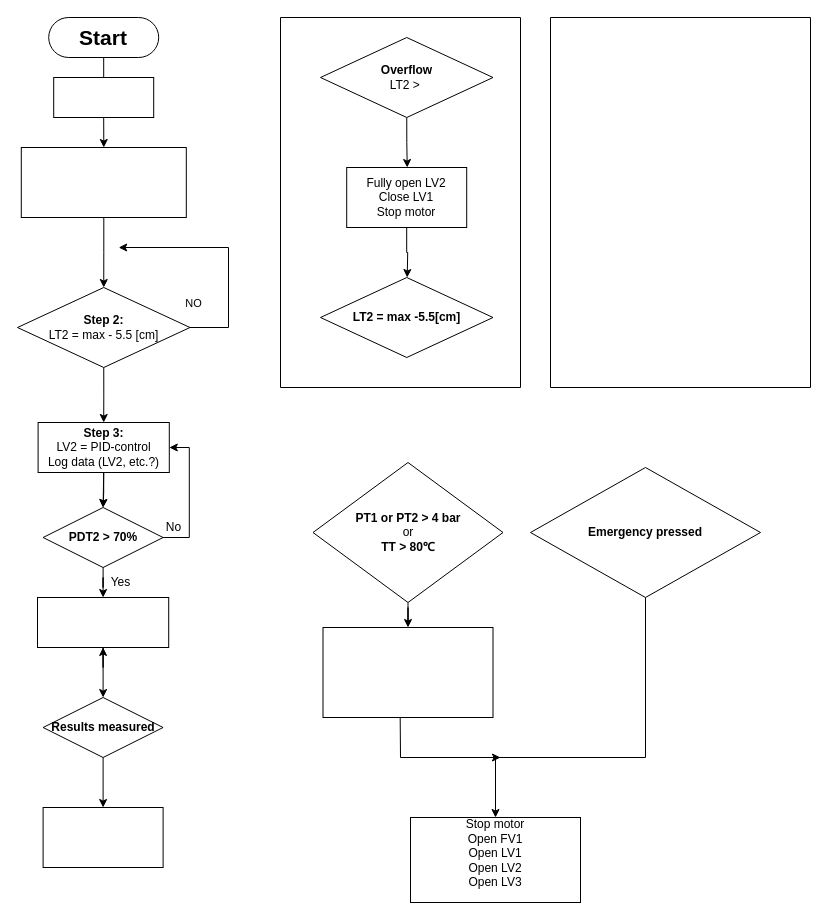
Image size: 828x920. Some labels were removed from this diagram. Each missing label, with the box of its shape:
Alarm: (322, 626, 493, 718)
Initial Values (empty tanks): (53, 76, 154, 118)
Step 1: Open LV1 & FV1 Close LV2 & LV3 Motor speed 30% 10 [sec]: (20, 146, 186, 218)
Step 4: Measure results: (36, 596, 169, 648)
Step 5: Open LV1, LV2, LV3: (42, 806, 163, 868)
